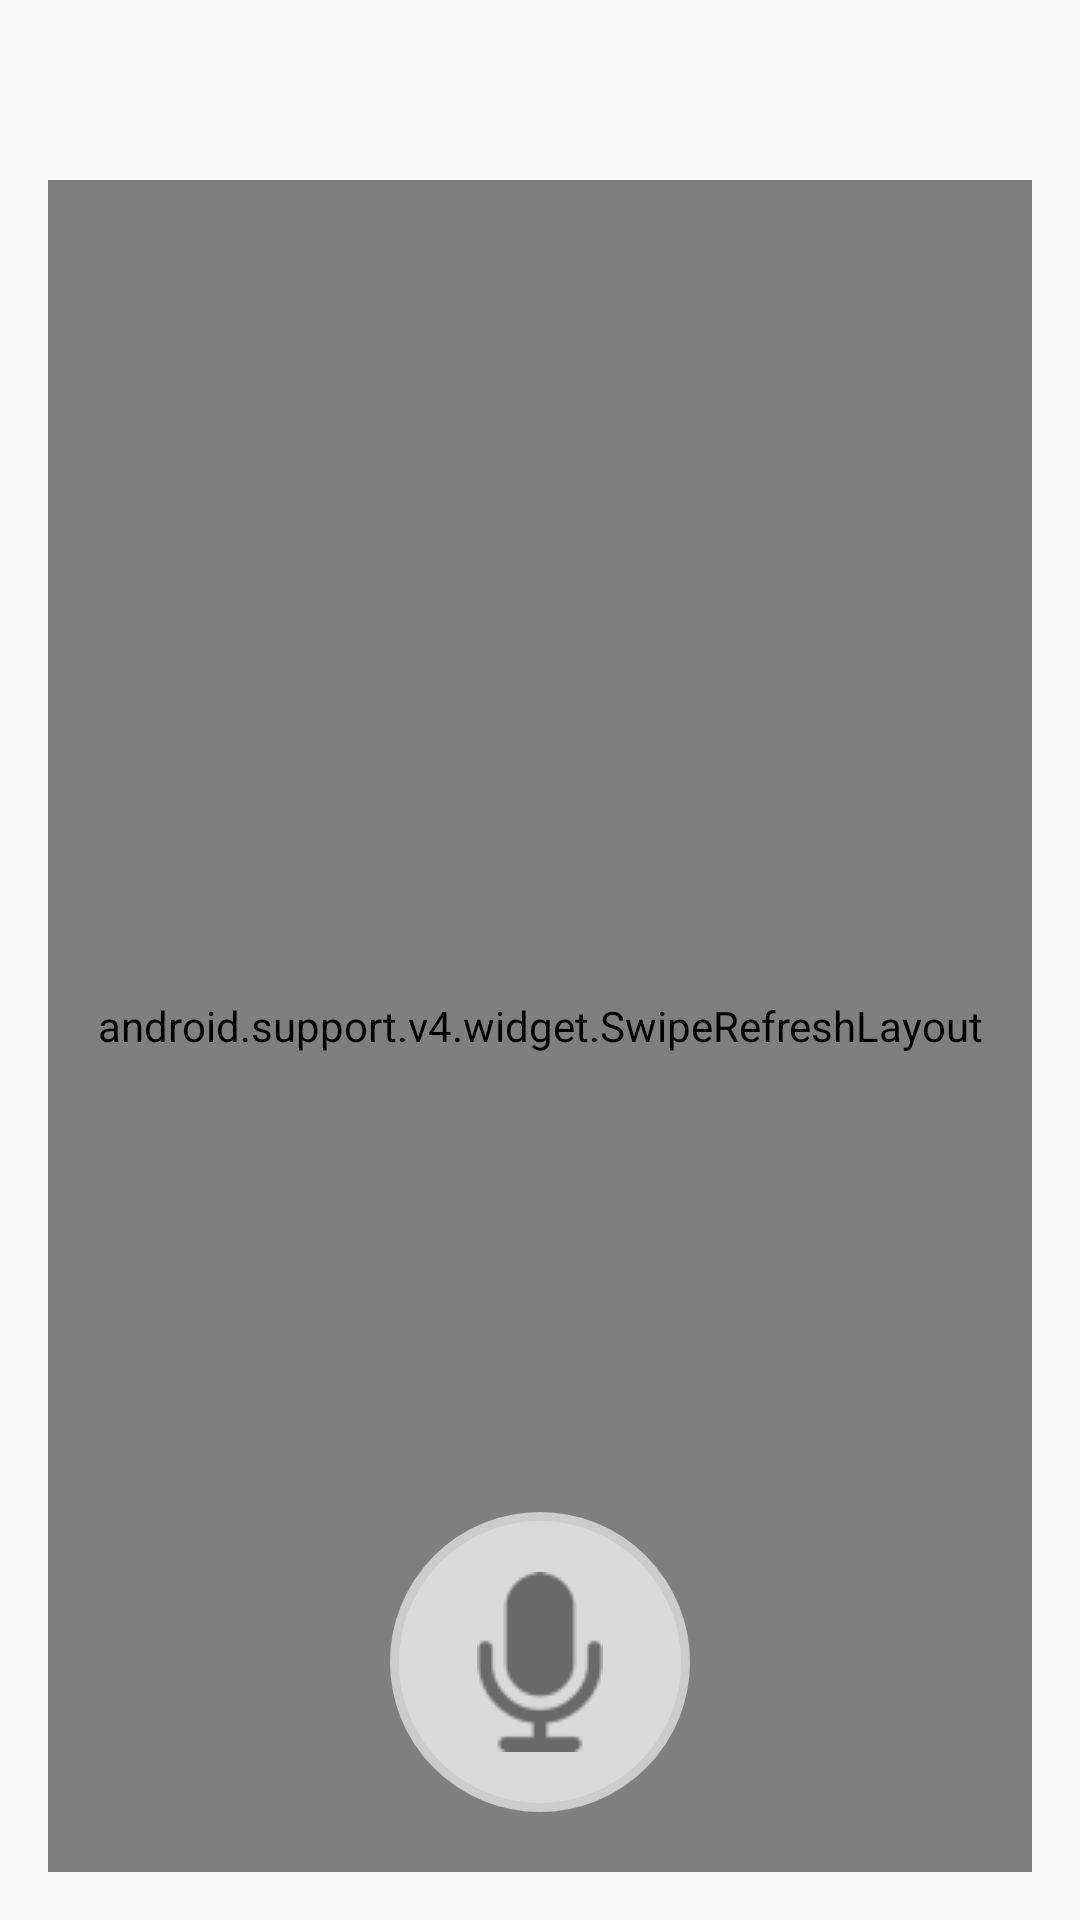

Screen size 1080*1920. Icon name, then its center in pixels as point (x, y):
microphone shape: point (540, 1662)
